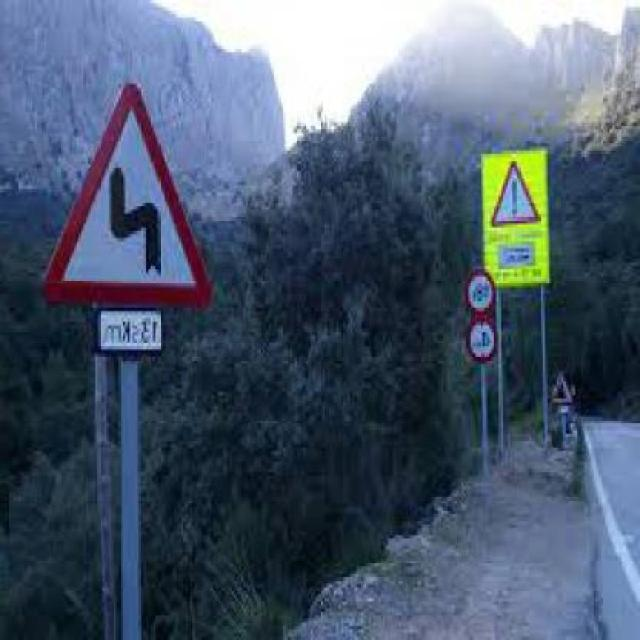warn_double_curve: (44, 84, 217, 309)
